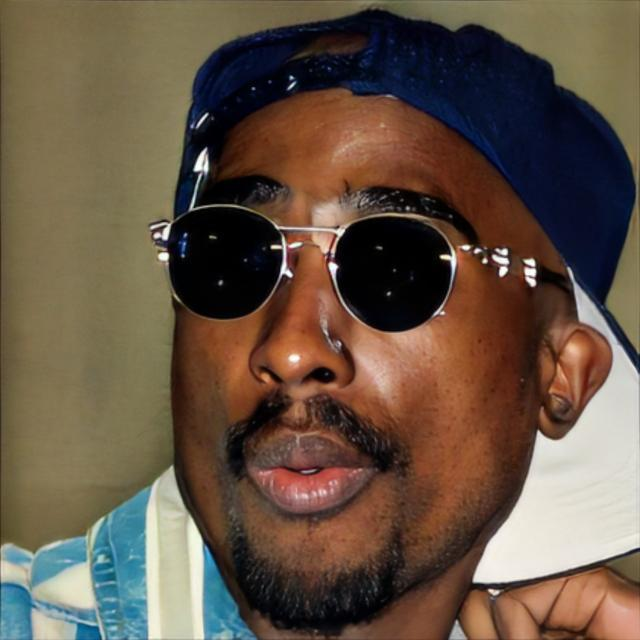surprise: (172, 83, 544, 622)
